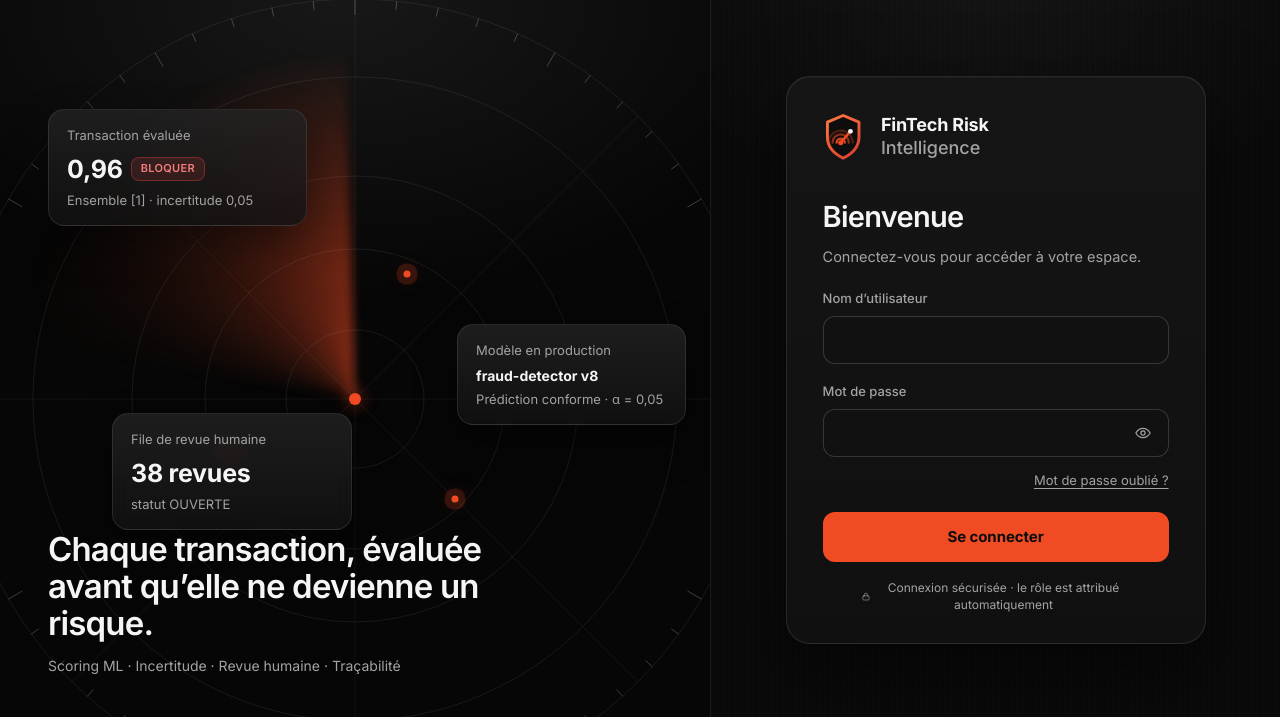
it: connexion › connecte un ADMIN et ouvre le dashboard
The width and height of the screenshot is (1280, 717).
Type "admin1" into the field labelled "Nom d’utilisateur" at point(996, 340), box top-left (822, 316), bottom-right (1168, 364)
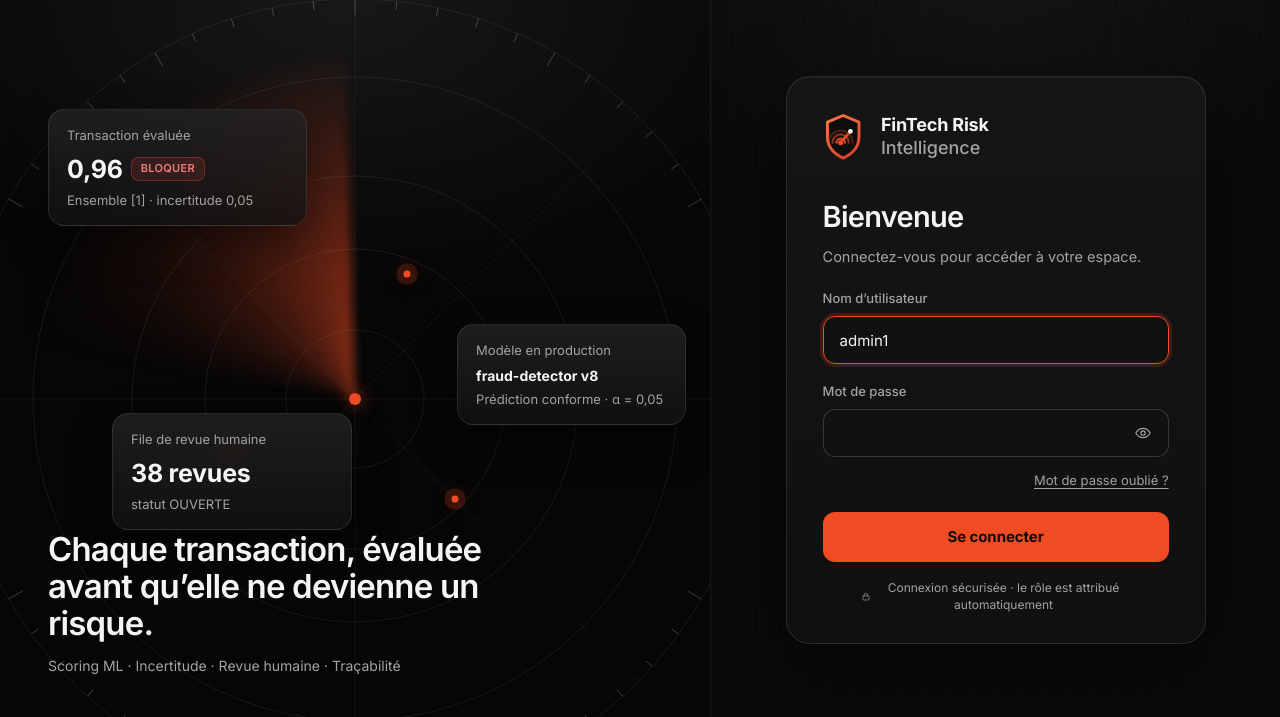
Type "demo" into the password field labelled "Mot de passe" at point(996, 433), box top-left (822, 409), bottom-right (1168, 457)
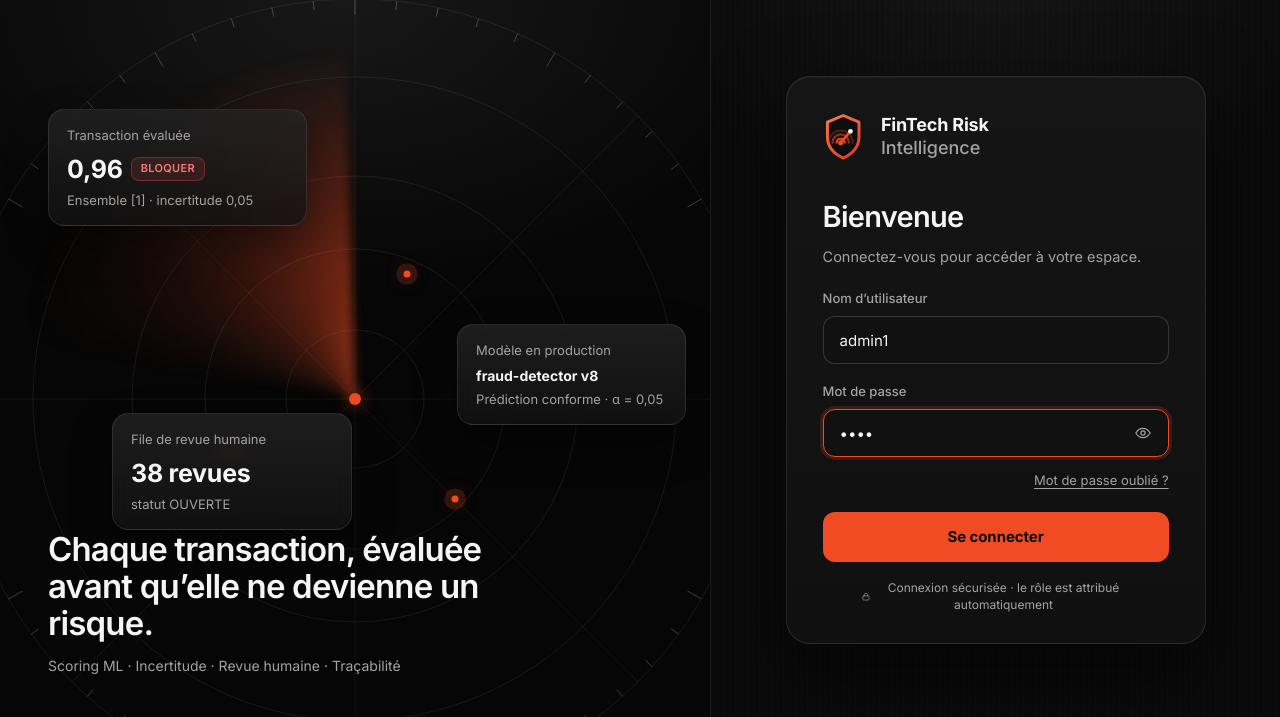
Click the button "Se connecter" at point(996, 537), box top-left (822, 512), bottom-right (1168, 562)
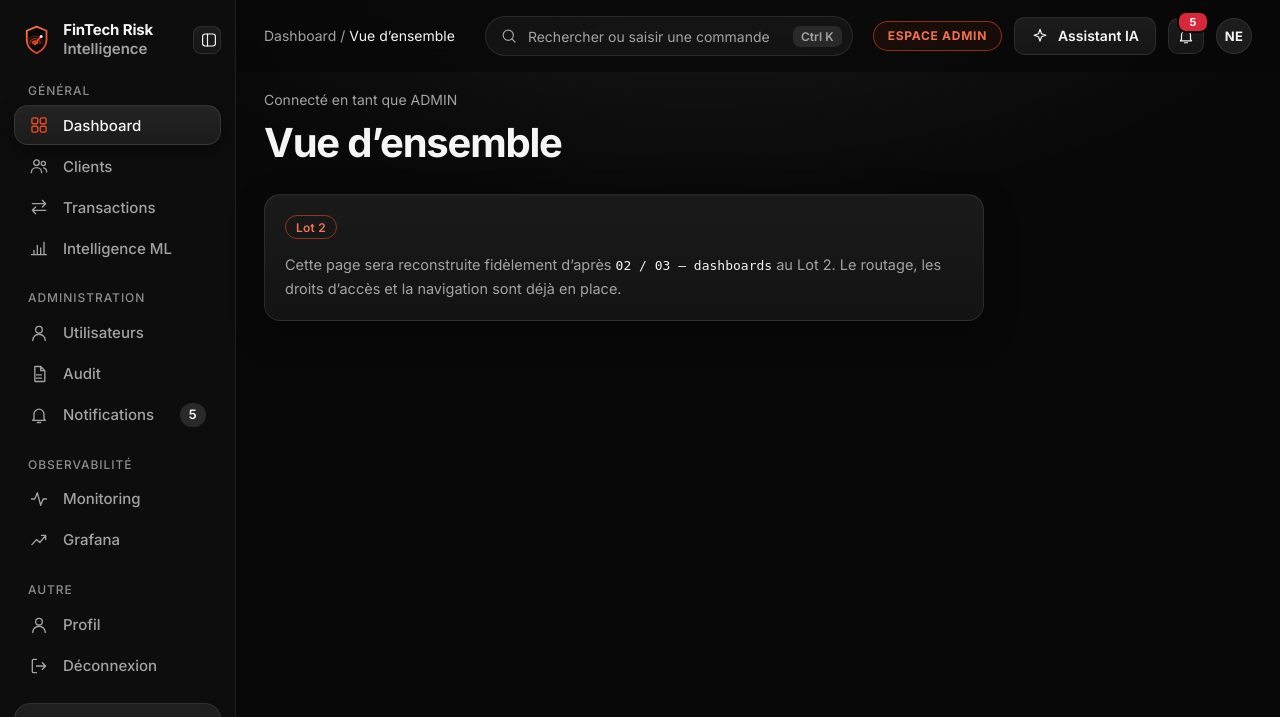
expect the heading "Vue d’ensemble" is shown: met, box top-left (264, 118), bottom-right (562, 167)
